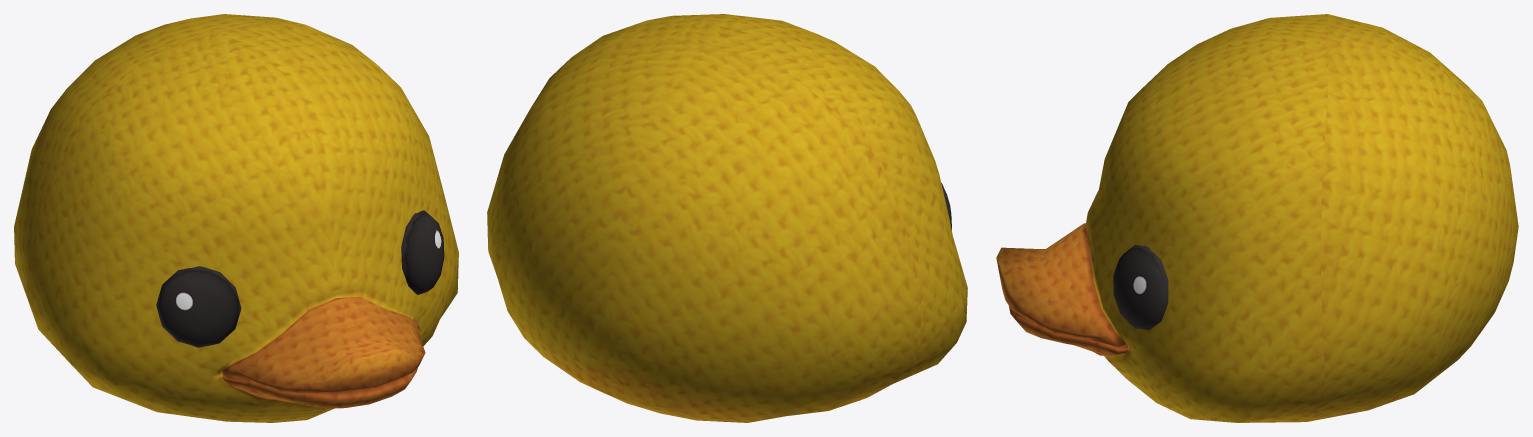
Rendered from doll_duck.FBX.
The picture shows the model from 3 angles, left to right: view 1: azimuth 30°, elevation 25°; view 2: azimuth 150°, elevation 25°; view 3: azimuth 270°, elevation 25°; orthographic projection. The views are drawn at different scales.
Parts seen in each view (by area): view 1: doll_duck; view 2: doll_duck; view 3: doll_duck.
Boxes of the visible parts, x1=… form: doll_duck: x1=14, y1=14, x2=458, y2=422; doll_duck: x1=487, y1=14, x2=967, y2=422; doll_duck: x1=996, y1=14, x2=1518, y2=422.
Bounding box in the file's own units: 69.21 × 56.39 × 77.51.
